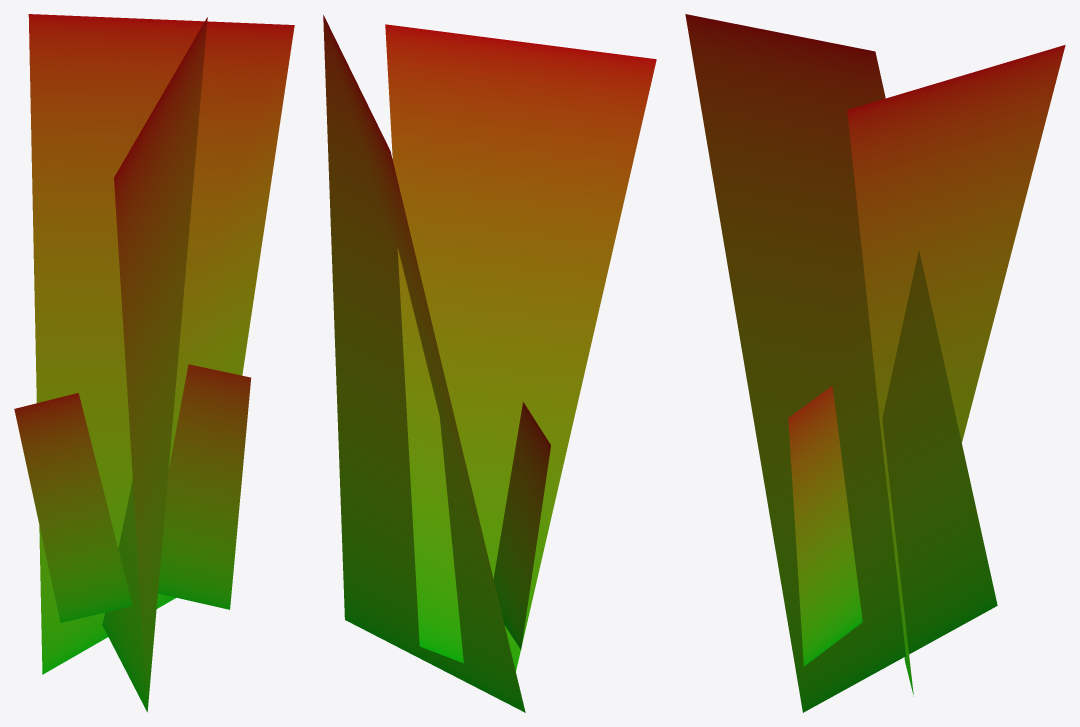
The model's file is DrySet01_Var8_LOD1.fbx.
The picture shows the model from 3 angles, left to right: view 1: azimuth 30°, elevation 25°; view 2: azimuth 150°, elevation 25°; view 3: azimuth 270°, elevation 25°; orthographic projection. The views are drawn at different scales.
Parts seen in each view (by area): view 1: DrySet01_Var8_LOD1; view 2: DrySet01_Var8_LOD1; view 3: DrySet01_Var8_LOD1.
Part boxes in pixels (x1,y1,x2,y2): DrySet01_Var8_LOD1: (14, 14, 294, 712); DrySet01_Var8_LOD1: (323, 15, 656, 712); DrySet01_Var8_LOD1: (685, 14, 1065, 712).
Size of the model in its own units: 17.6 by 42.91 by 20.8.
